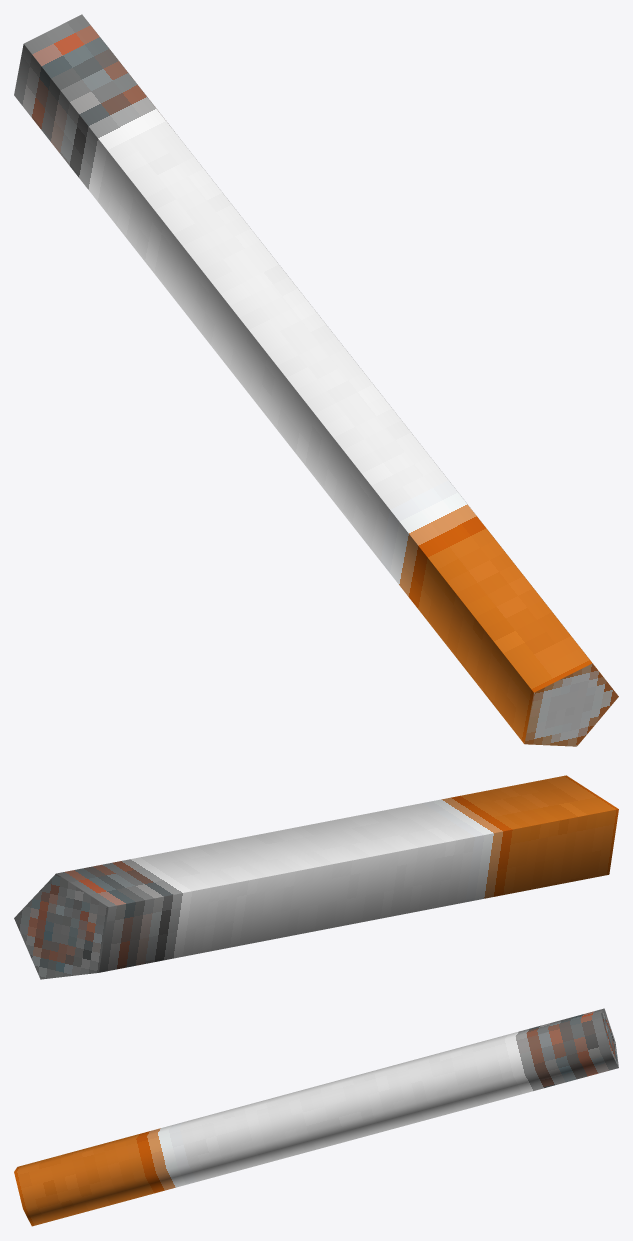
File: F_cigarette.fbx
The picture shows the model from 3 angles, top to bottom: view 1: azimuth 30°, elevation 25°; view 2: azimuth 150°, elevation 25°; view 3: azimuth 270°, elevation 25°; orthographic projection. The views are drawn at different scales.
Visible parts, largest first — view 1: Cigarette.X_Cigarette.001; view 2: Cigarette.X_Cigarette.001; view 3: Cigarette.X_Cigarette.001.
Part boxes in pixels (box(x1,y1,x2,y2)): Cigarette.X_Cigarette.001: box(14, 14, 618, 746); Cigarette.X_Cigarette.001: box(14, 775, 618, 979); Cigarette.X_Cigarette.001: box(14, 1008, 618, 1226).
Size of the model in its own units: 0.00516 by 0.0203 by 0.0524.
